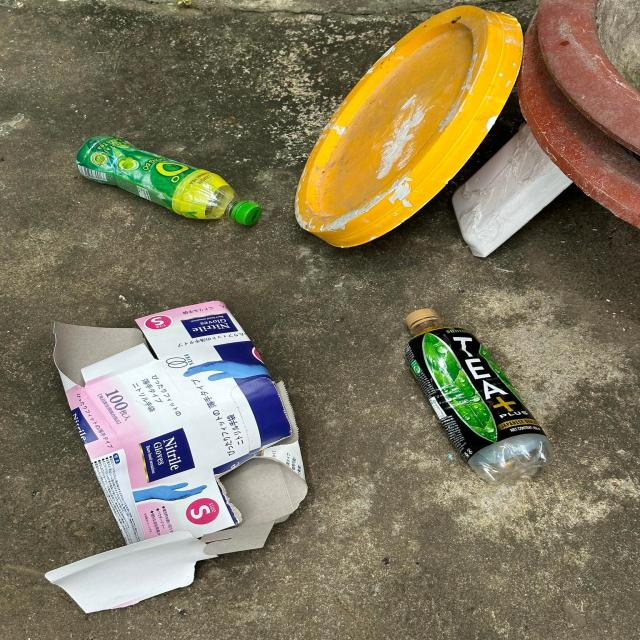bottle: (404, 308, 554, 484), (75, 135, 262, 226)
cardboard box: (45, 300, 308, 614)
